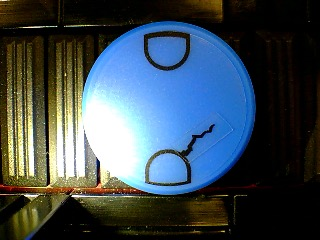CRACK: (81, 20, 257, 196)
